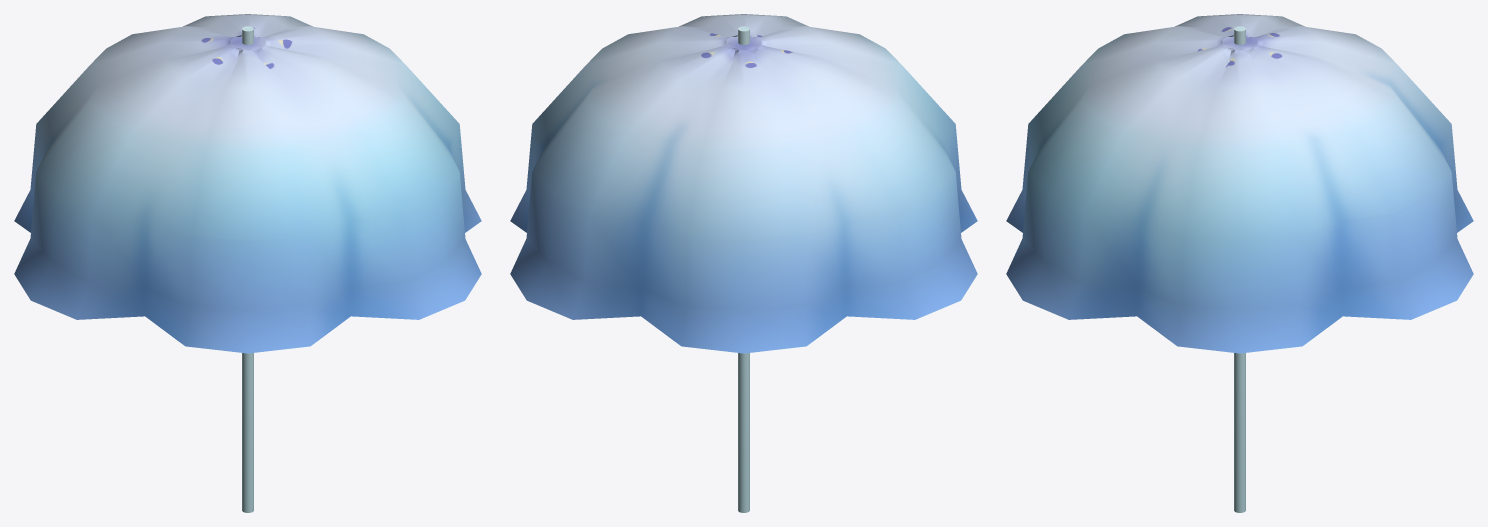
The model's file is nemophila_umbrella_model.fbx.
3 views of the same model, side by side, from view 1: azimuth 30°, elevation 25°; view 2: azimuth 150°, elevation 25°; view 3: azimuth 270°, elevation 25° (orthographic).
Visible parts, largest first — view 1: nemo_umb; view 2: nemo_umb; view 3: nemo_umb.
Part boxes in pixels (box(x1,y1,x2,y2)): nemo_umb: box(14, 14, 481, 512); nemo_umb: box(510, 14, 977, 512); nemo_umb: box(1006, 14, 1473, 512).
Size of the model in its own units: 6.11 by 6.47 by 5.7.
